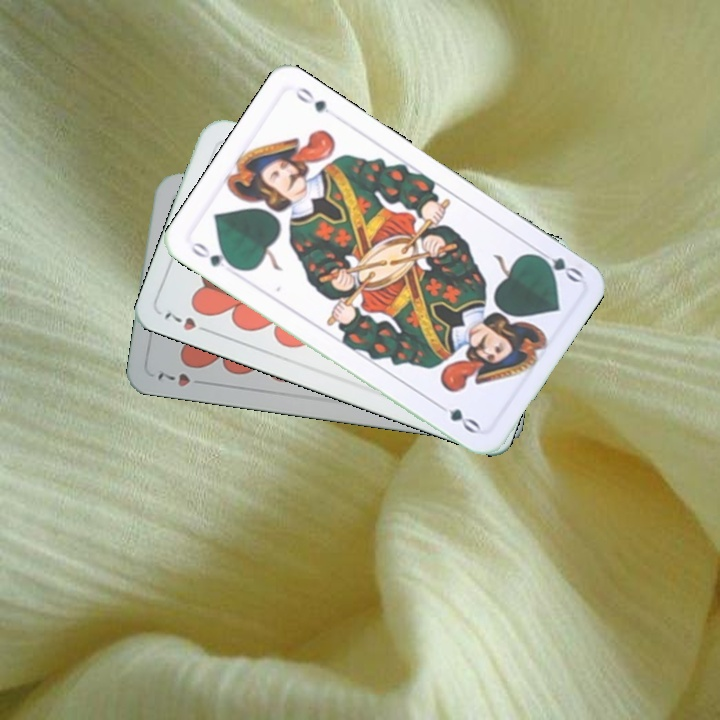GO: (529, 244, 585, 285), (186, 237, 241, 276)
H7: (160, 308, 215, 337), (153, 368, 209, 389)
